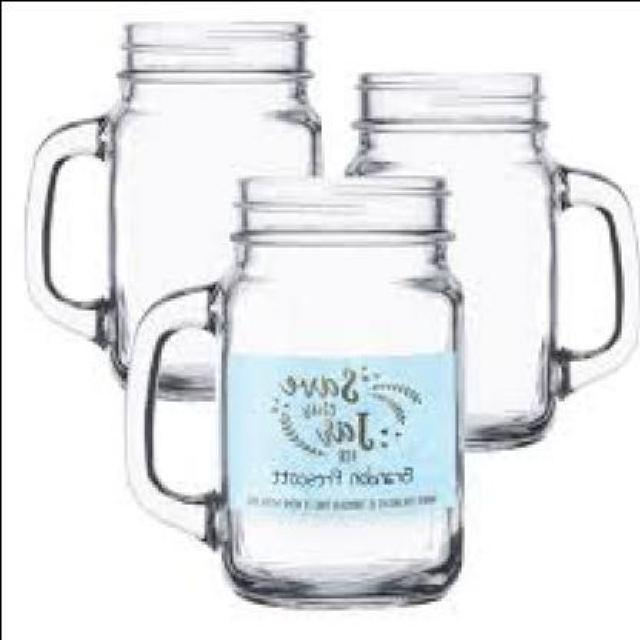GLASS: (126, 172, 463, 606), (28, 14, 323, 394), (348, 69, 638, 452)
